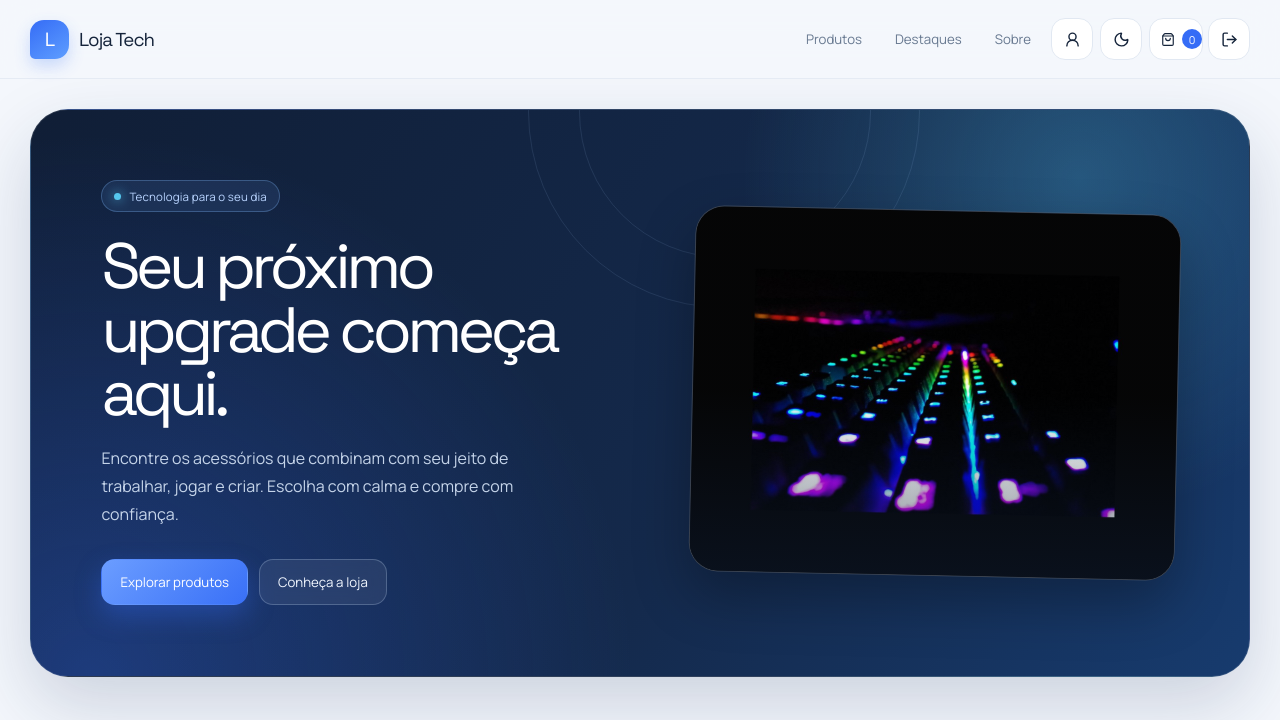
Test: logout › pede confirmação antes de encerrar a sessão
The width and height of the screenshot is (1280, 720).
Click the button named "Sair da conta" at (1229, 39), box [1208, 18, 1250, 60]
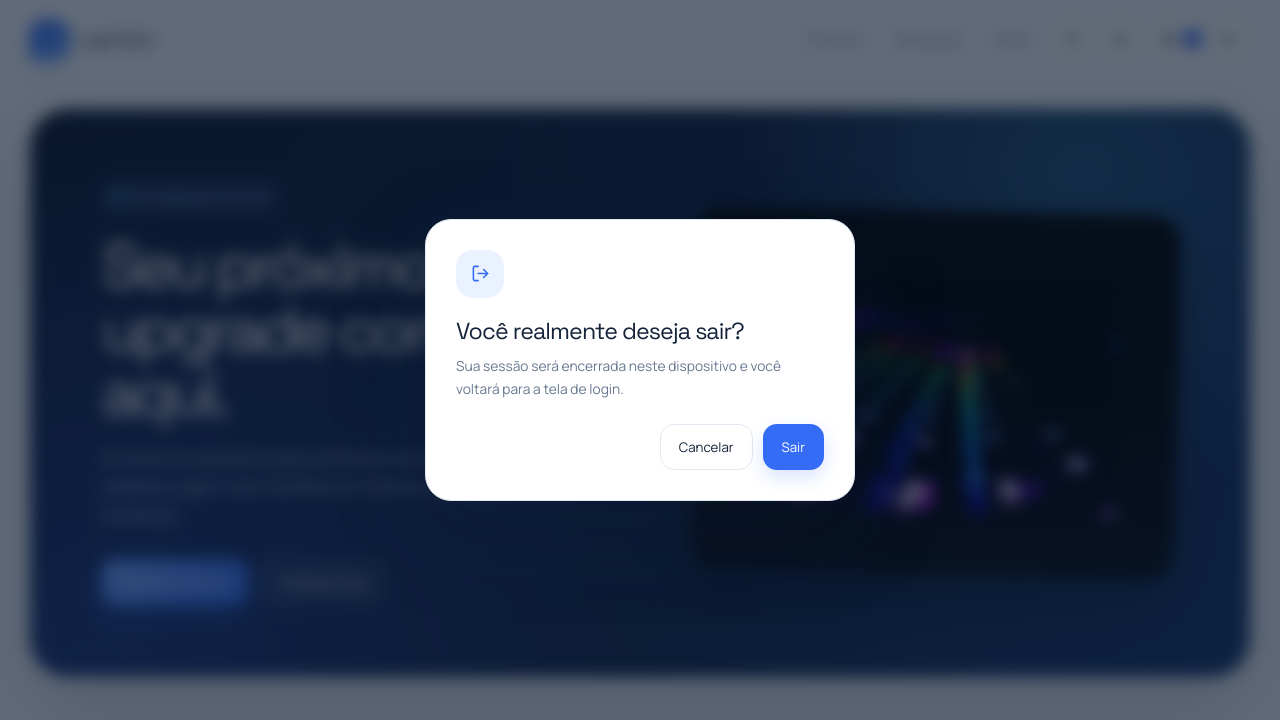
Expected: the dialog is shown, [425, 219, 855, 501]
Expected: the heading "Você realmente deseja sair?" is shown, [456, 316, 744, 346]
